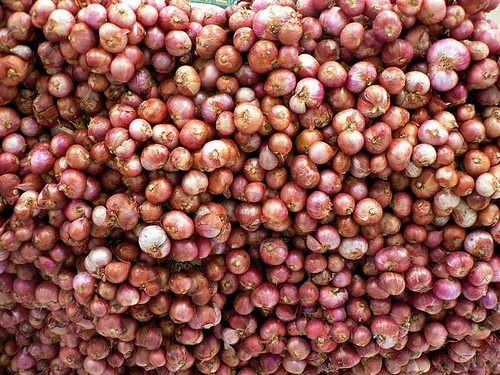onion: (159, 205, 205, 241), (109, 53, 135, 85)
